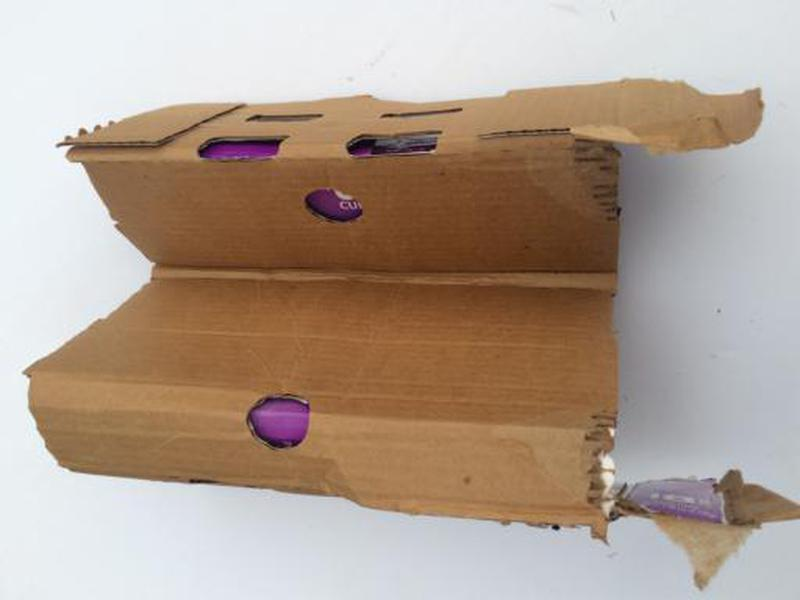cardboard: (21, 77, 800, 592)
